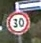limite 30: (5, 10, 31, 35)
